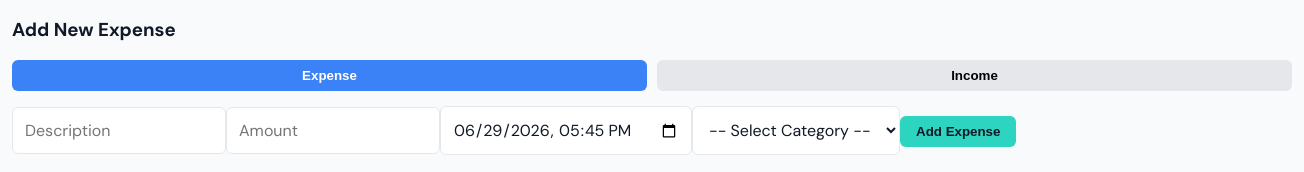
it: loads and filters category options by transaction type
Click the button "Income". click: [974, 76]
box: [657,60,1292,91]
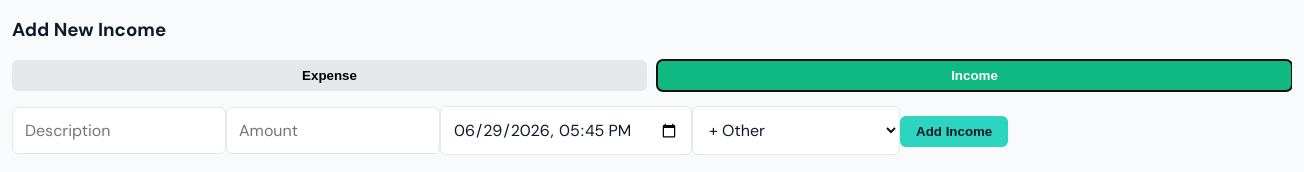
Check: the heading "Add New Income" is shown, box [12,17,166,42]
